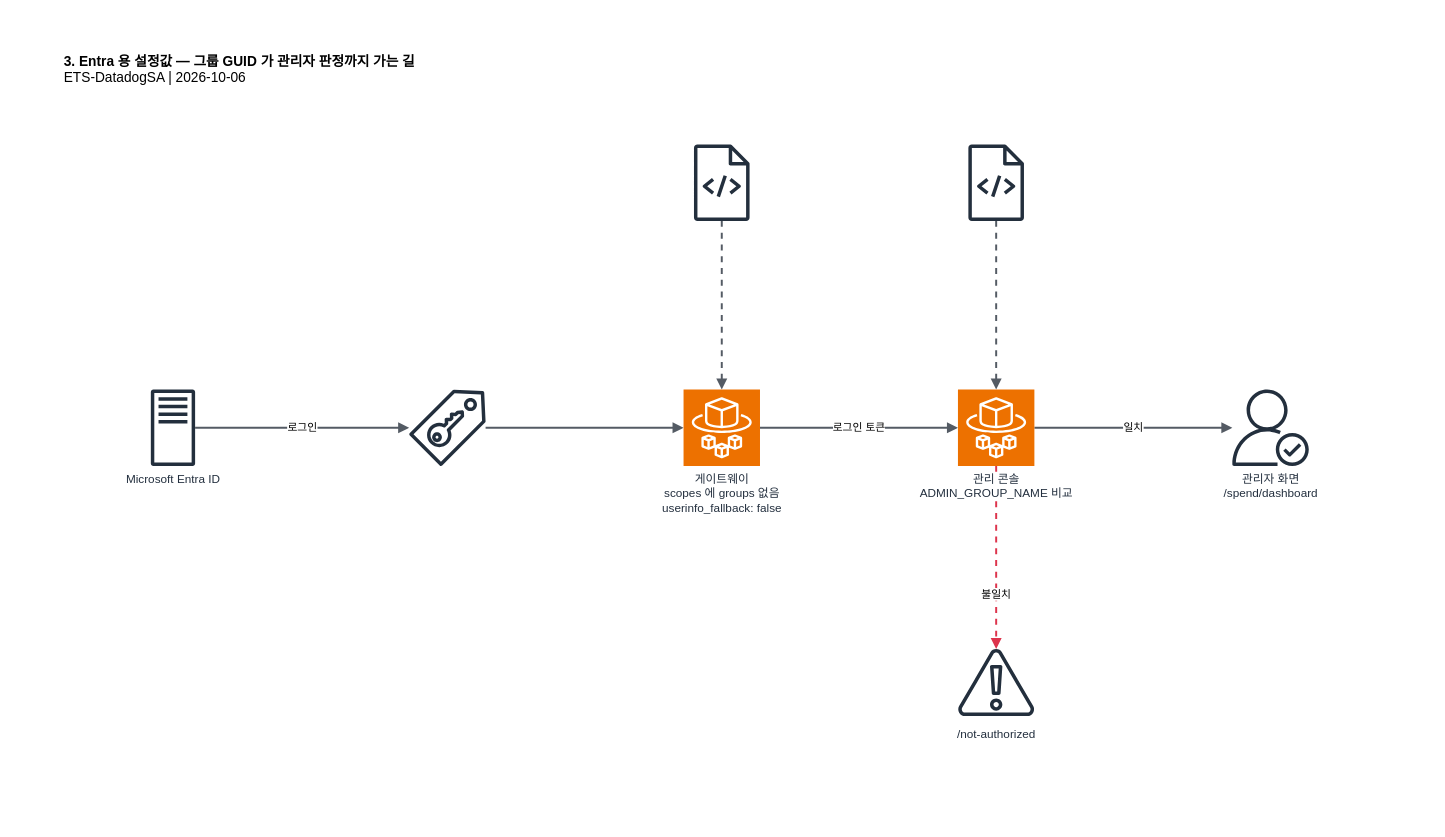
Image size: 1445x837. Some labels were removed from this diagram. The shapes that lost their labels are listed below. From the top down, each one's box as (x1, y1, x2, y2) in pixels, then its label:
(683, 144, 760, 220): gateway/gateway.yaml
(957, 144, 1034, 220): admin-console/app/auth.py ADMIN_GROUP_NAME = GUID
(409, 389, 485, 466): id_token groups: [그룹 GUID]
